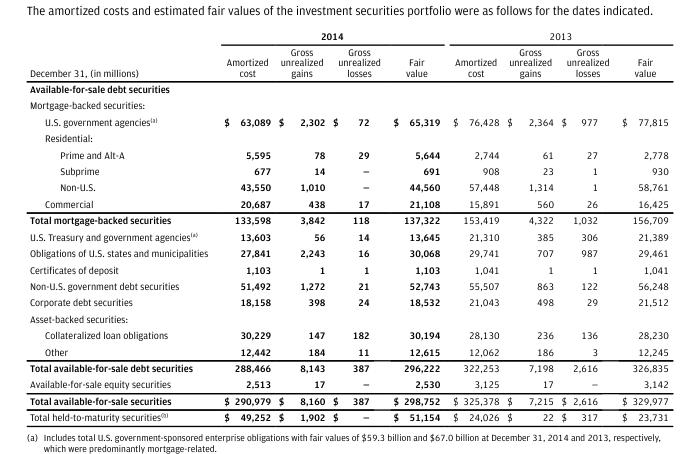table: (28, 29, 667, 422)
table column: (28, 29, 215, 422), (386, 29, 445, 422), (215, 29, 273, 422), (328, 29, 386, 422), (556, 29, 614, 422), (445, 29, 502, 422), (273, 29, 328, 422), (502, 29, 556, 422), (614, 29, 667, 422)
table column header: (28, 29, 667, 80)
table projected row header: (28, 309, 667, 326), (28, 80, 667, 96), (28, 96, 667, 112), (28, 129, 667, 145)
table row: (28, 43, 667, 80), (28, 112, 667, 129), (28, 145, 667, 162), (28, 178, 667, 195), (28, 227, 667, 244), (28, 260, 667, 277), (28, 309, 667, 326), (28, 342, 667, 359), (28, 375, 667, 392), (28, 80, 667, 96), (28, 96, 667, 112), (28, 129, 667, 145), (28, 162, 667, 178), (28, 195, 667, 211), (28, 211, 667, 227), (28, 244, 667, 260), (28, 277, 667, 293), (28, 293, 667, 309), (28, 326, 667, 342), (28, 359, 667, 375), (28, 392, 667, 408), (28, 29, 667, 43), (28, 408, 667, 422)
table spanning cell: (28, 29, 215, 80), (215, 29, 445, 43), (445, 29, 667, 43)
